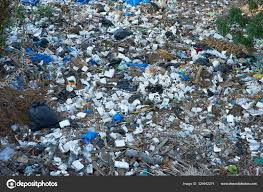garbage: (21, 1, 260, 167)
